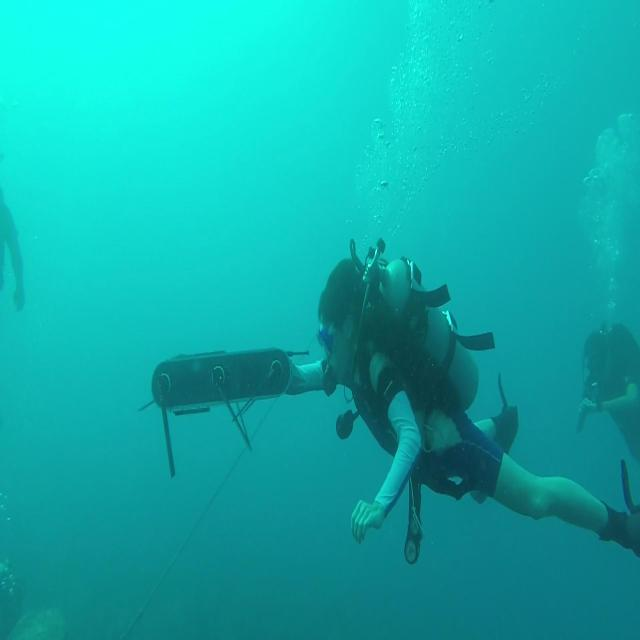human: (316, 240, 639, 565), (576, 321, 639, 462)
